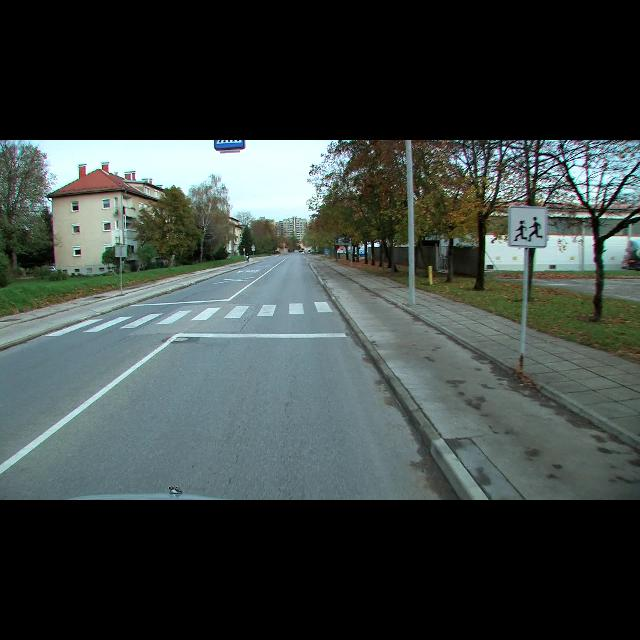Squared: (507, 205, 547, 248), (214, 140, 246, 150)
